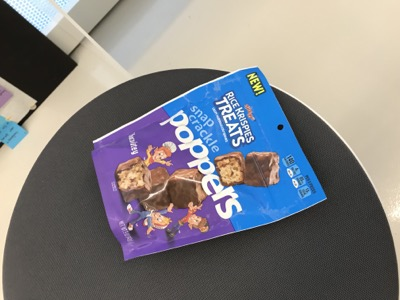rice krispies: (90, 65, 329, 262)
